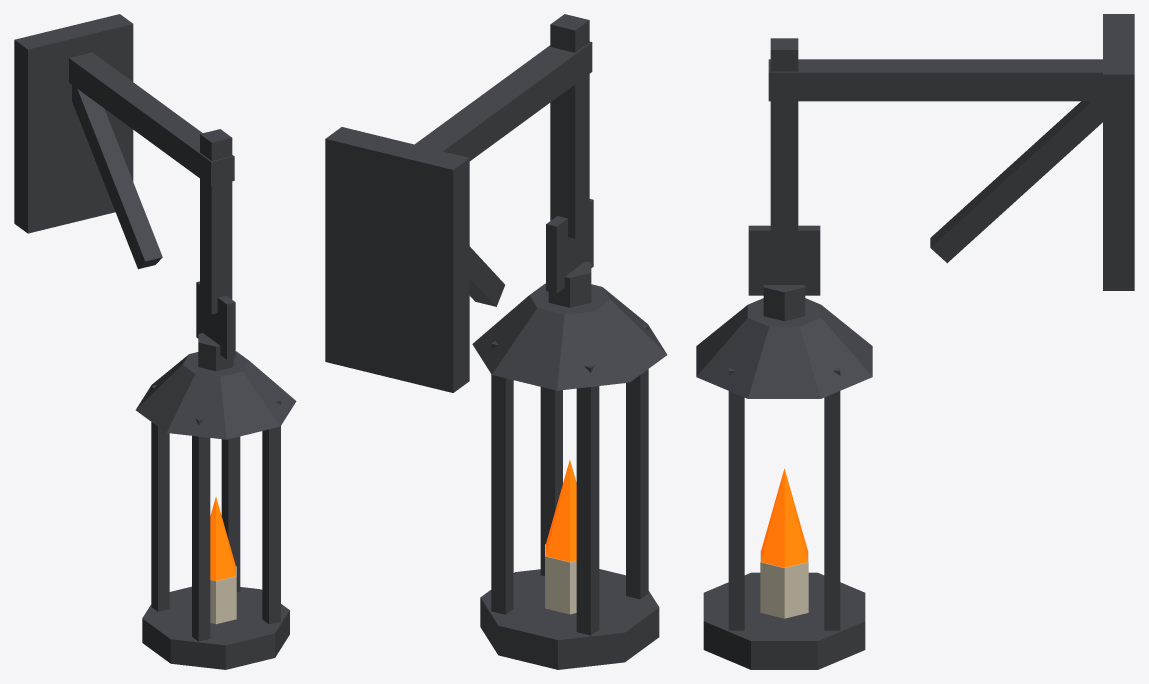
The model's file is mine_lantern_wall.glb.
The picture shows the model from 3 angles, left to right: view 1: azimuth 30°, elevation 25°; view 2: azimuth 150°, elevation 25°; view 3: azimuth 270°, elevation 25°; orthographic projection. The views are drawn at different scales.
Parts seen in each view (by area): view 1: mine_lantern_wall; view 2: mine_lantern_wall; view 3: mine_lantern_wall.
Boxes of the visible parts, x1=… form: mine_lantern_wall: x1=14, y1=14, x2=296, y2=669; mine_lantern_wall: x1=325, y1=14, x2=667, y2=669; mine_lantern_wall: x1=696, y1=14, x2=1134, y2=669.
Bounding box in the file's own units: 0.2217 × 0.82 × 0.5509.
